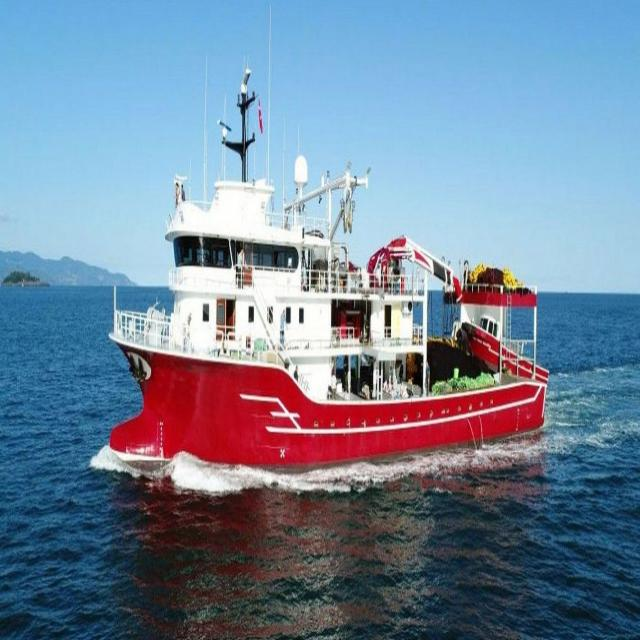boat: (85, 54, 558, 541)
